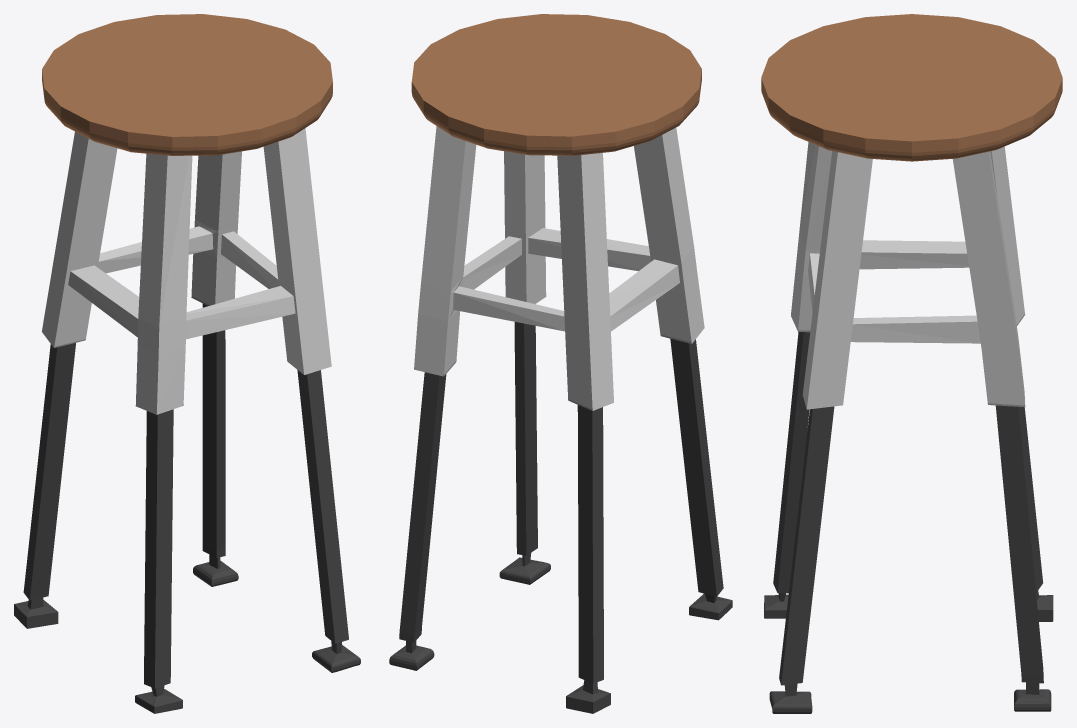
File: Stool.fbx
The picture shows the model from 3 angles, left to right: view 1: azimuth 30°, elevation 25°; view 2: azimuth 150°, elevation 25°; view 3: azimuth 270°, elevation 25°; orthographic projection. The views are drawn at different scales.
Visible parts, largest first — view 1: Stool; view 2: Stool; view 3: Stool.
Boxes of the visible parts, bbox=[...] form: Stool: bbox=[14, 14, 360, 713]; Stool: bbox=[389, 14, 732, 713]; Stool: bbox=[761, 14, 1062, 713].
Bounding box in the file's own units: 14.5 × 31 × 14.5.
